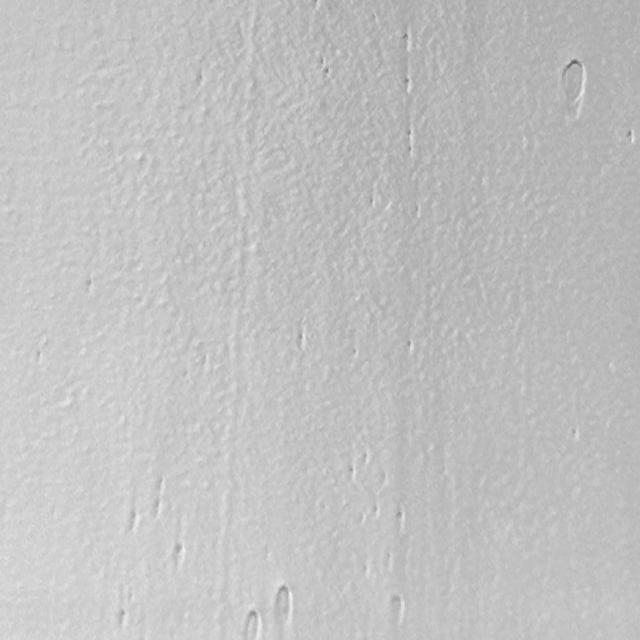pin holes: (556, 56, 590, 118), (272, 584, 297, 630), (241, 608, 265, 639), (387, 596, 409, 628), (171, 541, 189, 570), (292, 328, 310, 353), (124, 510, 142, 534), (80, 276, 97, 300), (114, 606, 131, 630), (398, 31, 415, 53), (191, 69, 208, 91), (402, 128, 416, 154), (392, 508, 407, 532), (383, 551, 398, 573), (400, 75, 415, 96), (624, 126, 638, 148), (370, 500, 383, 522), (345, 463, 358, 483), (360, 448, 372, 468), (367, 193, 381, 210), (404, 338, 417, 356), (346, 345, 359, 363), (361, 563, 373, 582), (570, 426, 582, 444), (322, 65, 335, 80), (310, 0, 322, 11), (318, 53, 325, 71)
